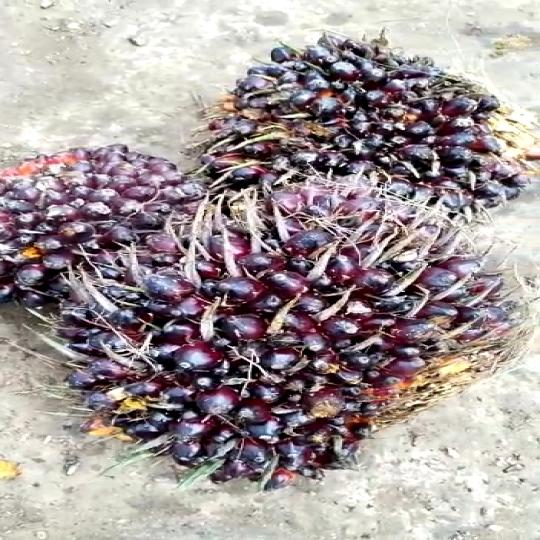kurang masak: (64, 161, 526, 483), (185, 19, 540, 229), (0, 114, 211, 295)
